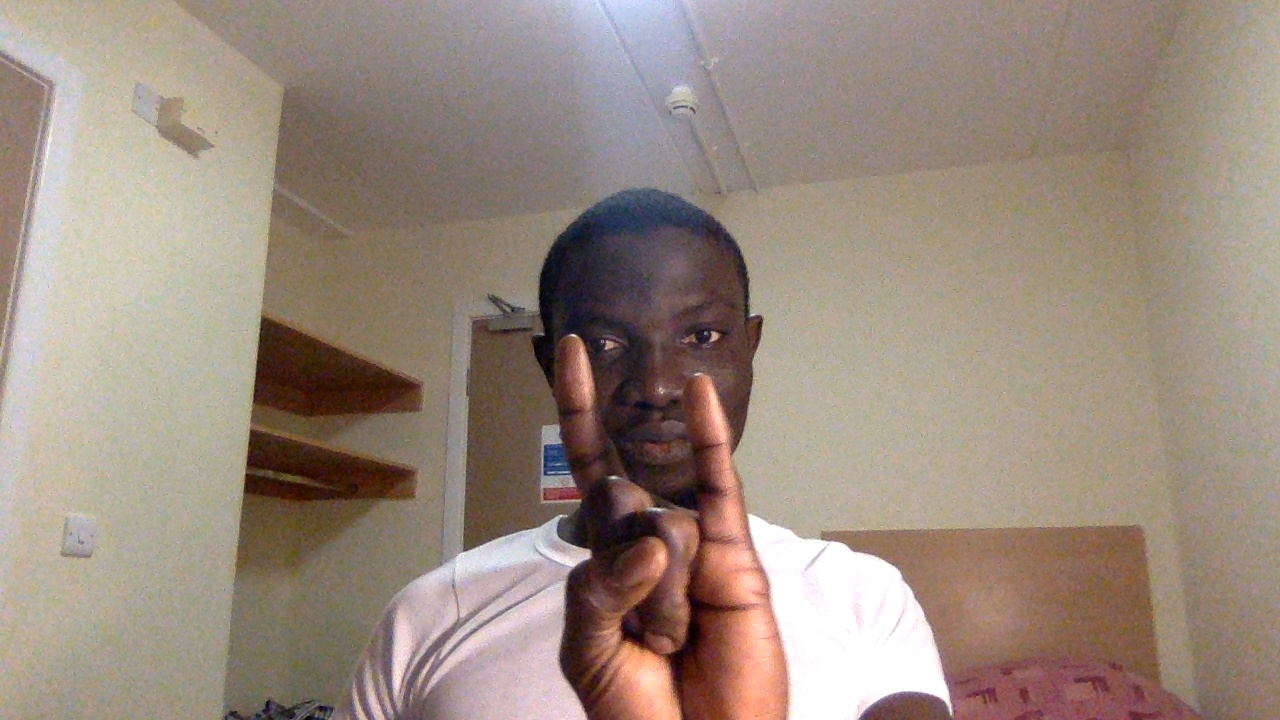I Love You: (533, 323, 842, 720)
